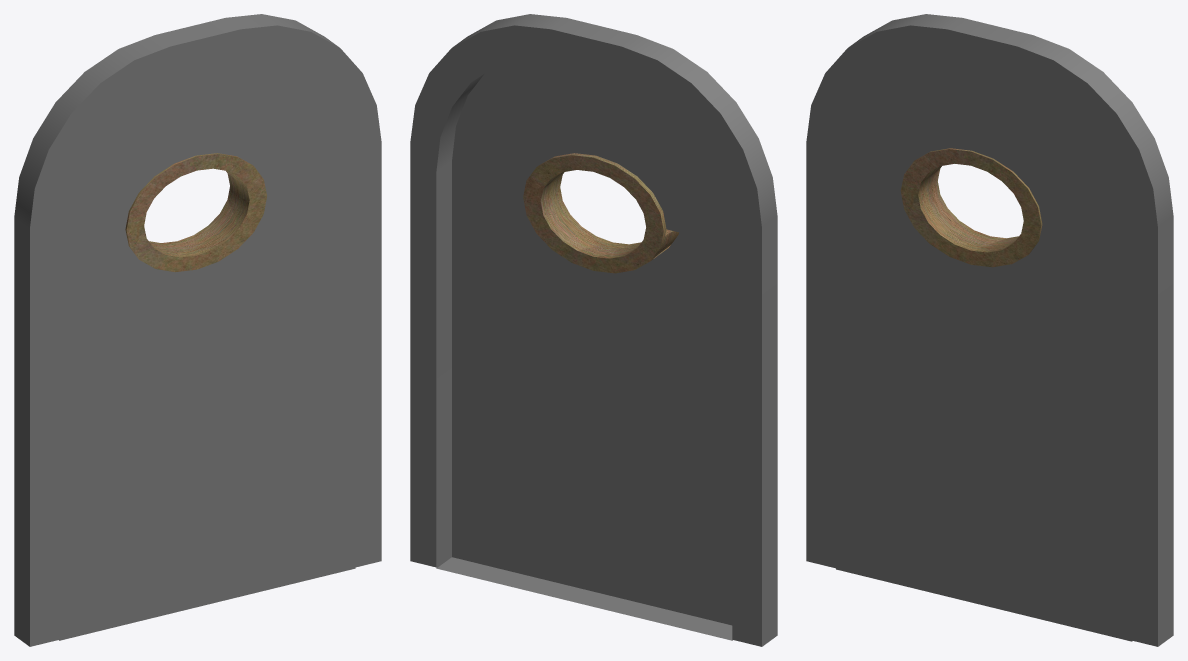
Rendered from puerta2.obj.
3 views of the same model, side by side, from view 1: azimuth 30°, elevation 25°; view 2: azimuth 150°, elevation 25°; view 3: azimuth 330°, elevation 25° (orthographic).
Parts seen in each view (by area): view 1: pCube5, pCube4, polySurface1098polySurface1257; view 2: pCube5, pCube4, polySurface1098polySurface1257; view 3: pCube5, pCube4, polySurface1098polySurface1257.
Boxes of the visible parts, left/top/right/bottom form: pCube5: left=59, top=59, right=355, bottom=640; pCube4: left=14, top=14, right=381, bottom=646; polySurface1098polySurface1257: left=125, top=153, right=266, bottom=272; pCube5: left=436, top=59, right=732, bottom=640; pCube4: left=410, top=14, right=777, bottom=646; polySurface1098polySurface1257: left=523, top=153, right=678, bottom=273; pCube5: left=836, top=60, right=1132, bottom=641; pCube4: left=806, top=14, right=1173, bottom=646; polySurface1098polySurface1257: left=900, top=148, right=1042, bottom=267.
Bounding box in the file's own units: 1.3 × 2 × 0.1251.
Materials: 3 (1 with a texture image).
